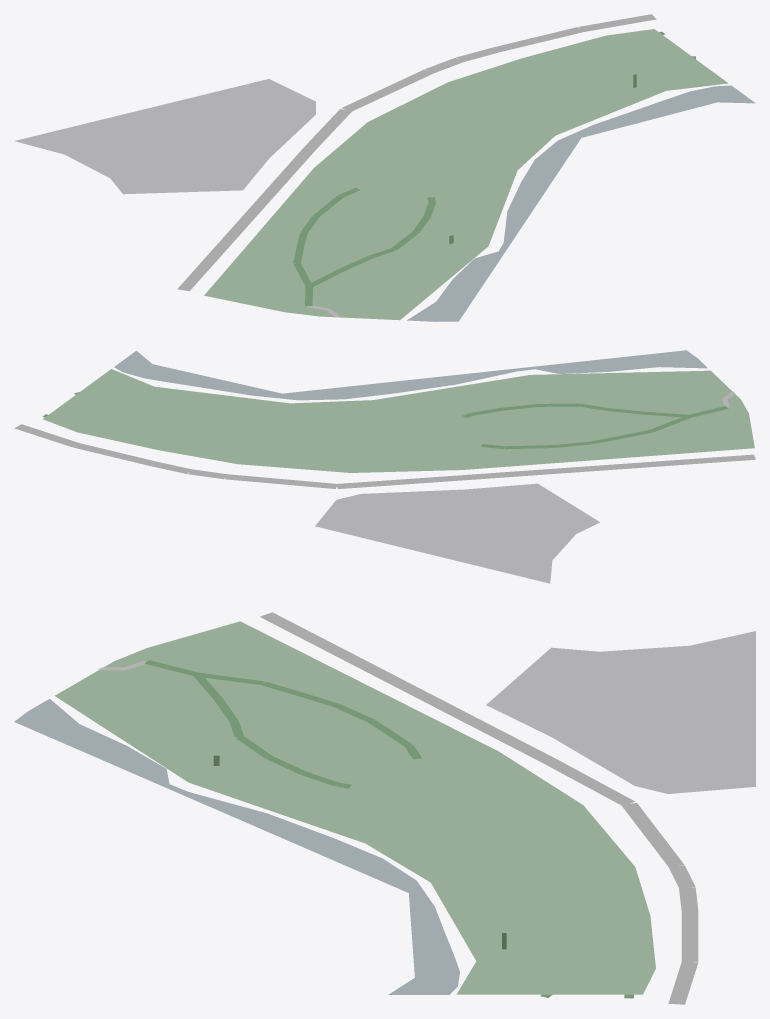
3 views of the same model, one above another, from view 1: azimuth 30°, elevation 25°; view 2: azimuth 150°, elevation 25°; view 3: azimuth 270°, elevation 25° (orthographic). The views are drawn at different scales.
Bounding box in the file's own units: 386 × 8.1 × 310.
